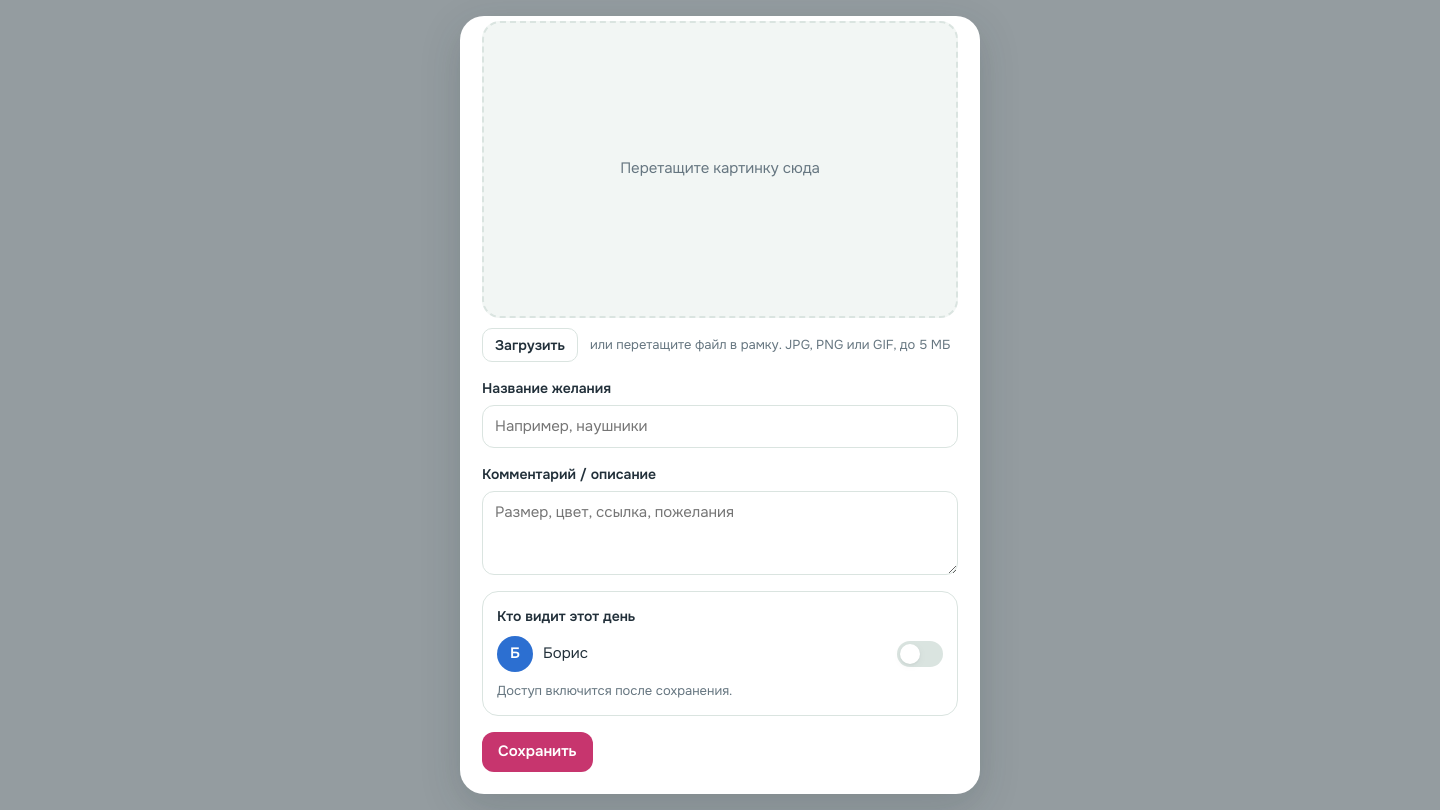
Scenario: DayModal: свой день › без названия не сохраняет и показывает ошибку
(page scrolled)
Step 1. Click the button "Сохранить" → [537, 752], box [482, 732, 593, 772]
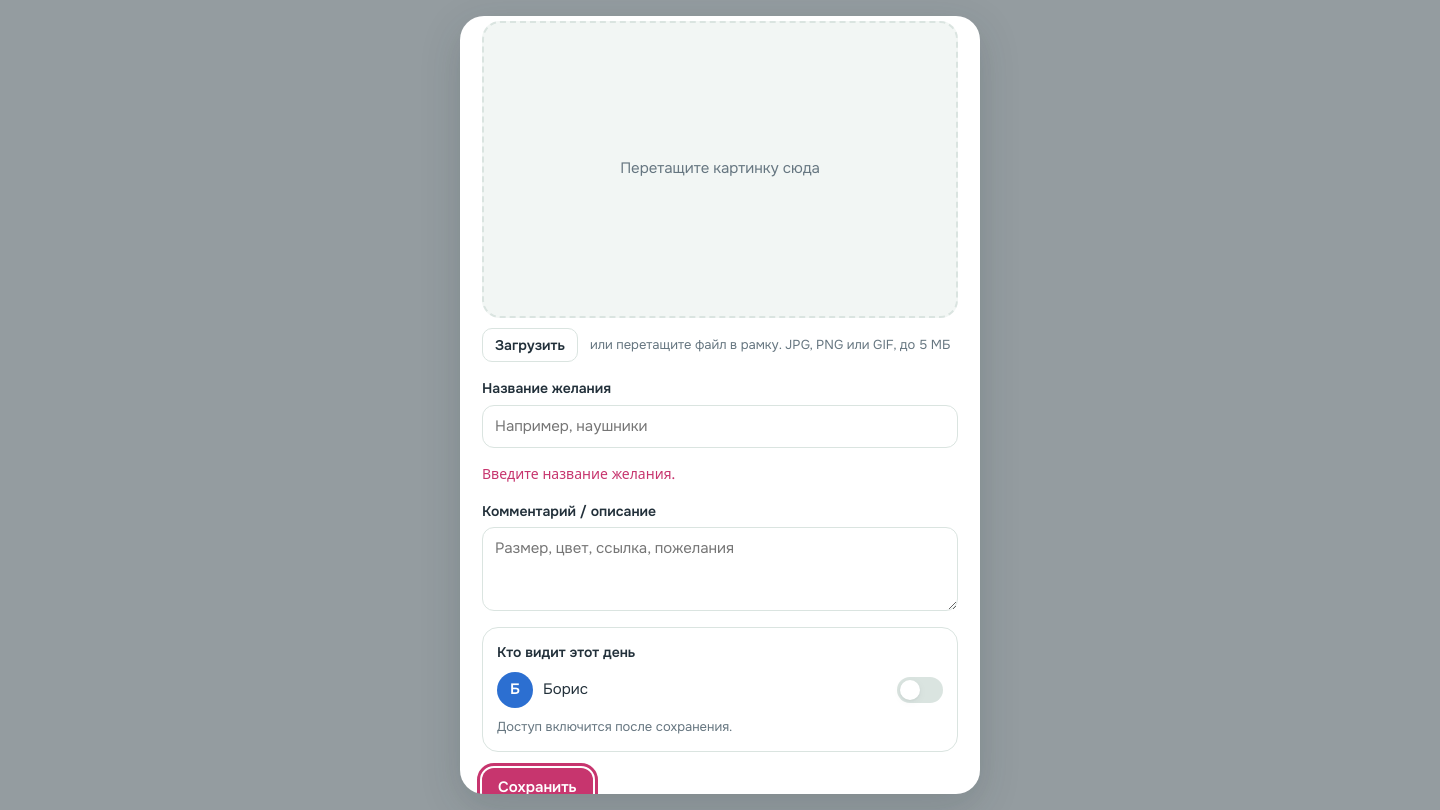
Check: the text "Введите название желания." is shown, box [482, 465, 675, 483]
